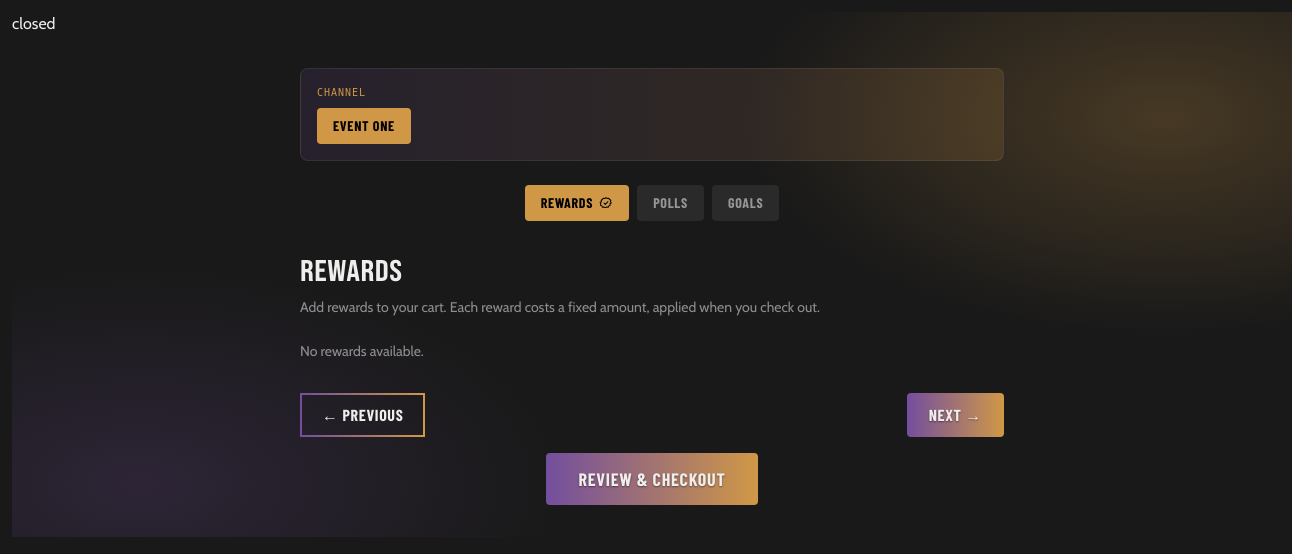
Test: DonateFlow (tabbed browse page) › cycles backward through categories via "previous", wrapping from rewards to goals
Expected: the text "No rewards available." is shown, [300, 342, 424, 360]
Click the button "← previous" at {"x": 363, "y": 415}, box [300, 393, 425, 437]
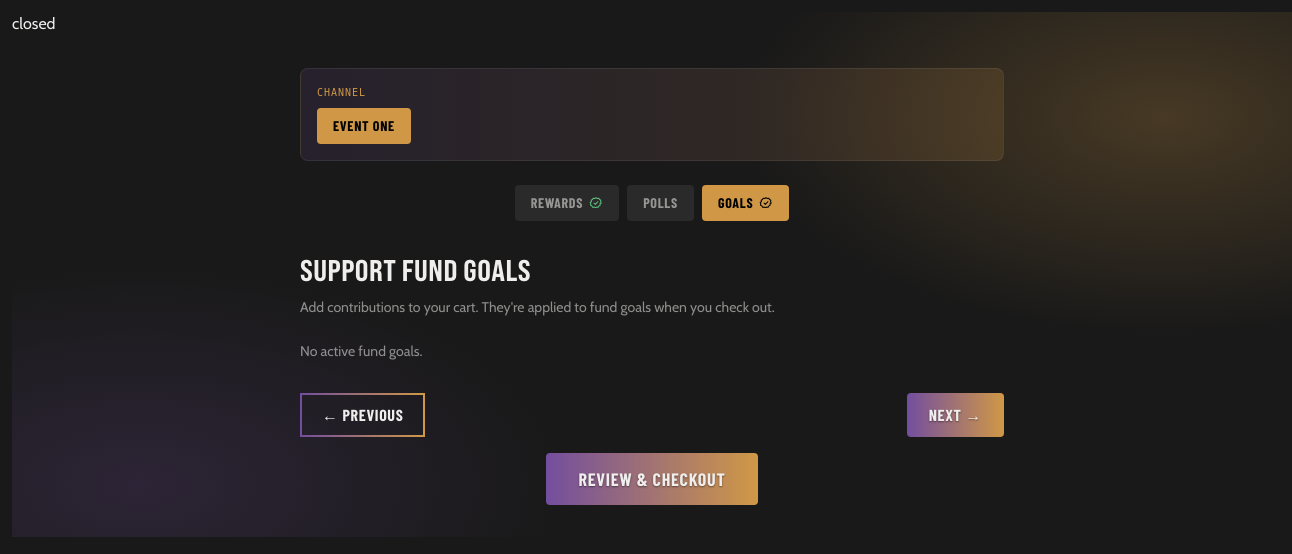
Expected: the text "No active fund goals." is shown, [300, 342, 422, 360]
